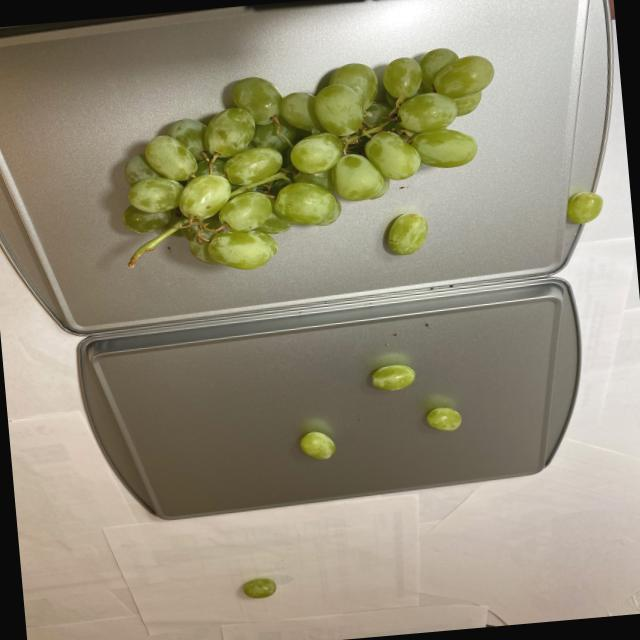grapes: (112, 42, 510, 282), (286, 352, 462, 464)
